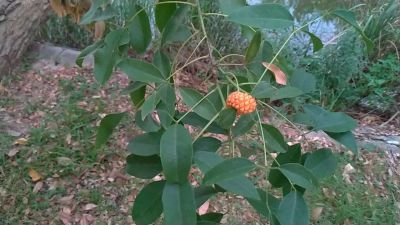eggs: (226, 87, 257, 113)
